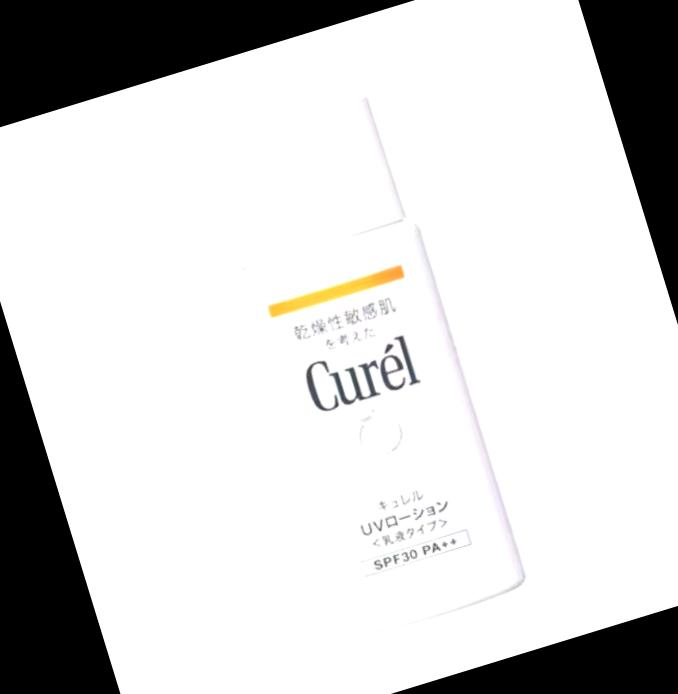cosmetic: (187, 86, 528, 639)
